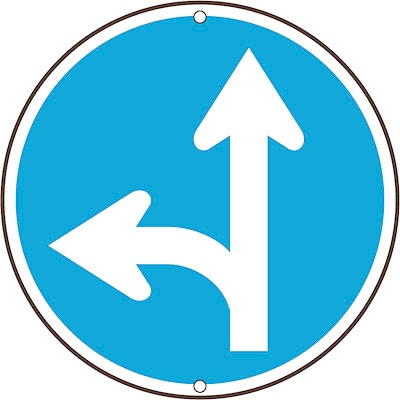Direction_sign: (10, 1, 396, 395)
